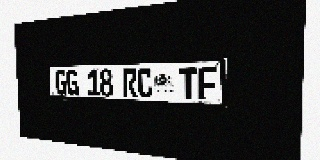1: (87, 69, 100, 96)
8: (100, 69, 113, 96)
C: (137, 68, 153, 98)
F: (198, 67, 216, 100)
G: (55, 70, 67, 95), (66, 70, 78, 95)
R: (122, 68, 137, 97)
T: (179, 67, 197, 100)
